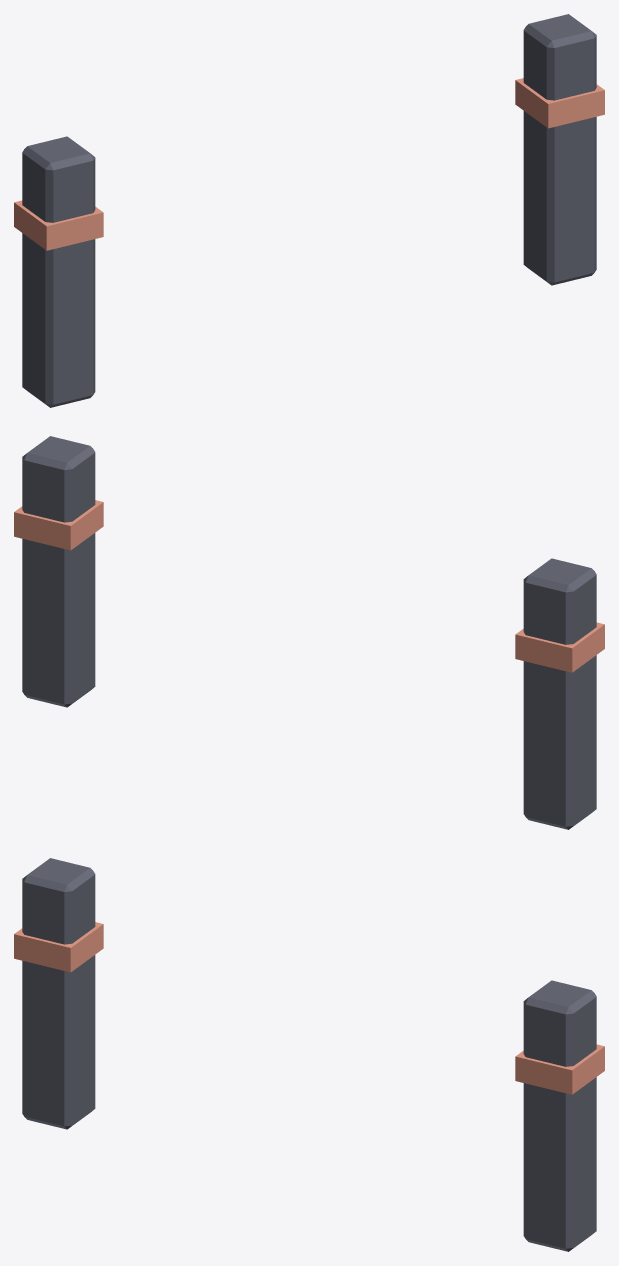
Rendered from Trap_Laser.fbx.
The picture shows the model from 3 angles, top to bottom: view 1: azimuth 30°, elevation 25°; view 2: azimuth 150°, elevation 25°; view 3: azimuth 330°, elevation 25°; orthographic projection.
Visible parts, largest first — view 1: Trap_Laser; view 2: Trap_Laser; view 3: Trap_Laser.
Boxes of the visible parts, x1=… form: Trap_Laser: x1=14, y1=14, x2=604, y2=407; Trap_Laser: x1=14, y1=436, x2=604, y2=829; Trap_Laser: x1=14, y1=858, x2=604, y2=1251.
Size of the model in its own units: 3.34 by 1.4 by 0.34.
